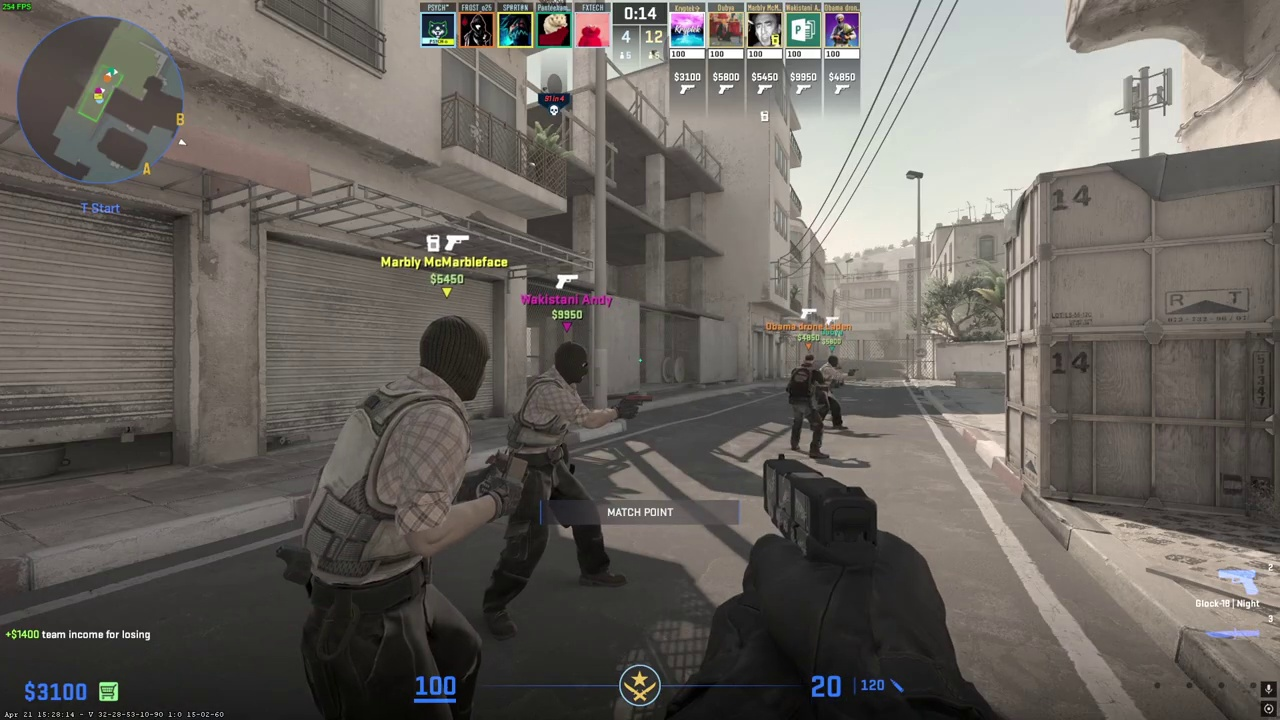Terrorist: (301, 317, 492, 711), (496, 342, 624, 639), (788, 354, 825, 459), (818, 355, 848, 429)
